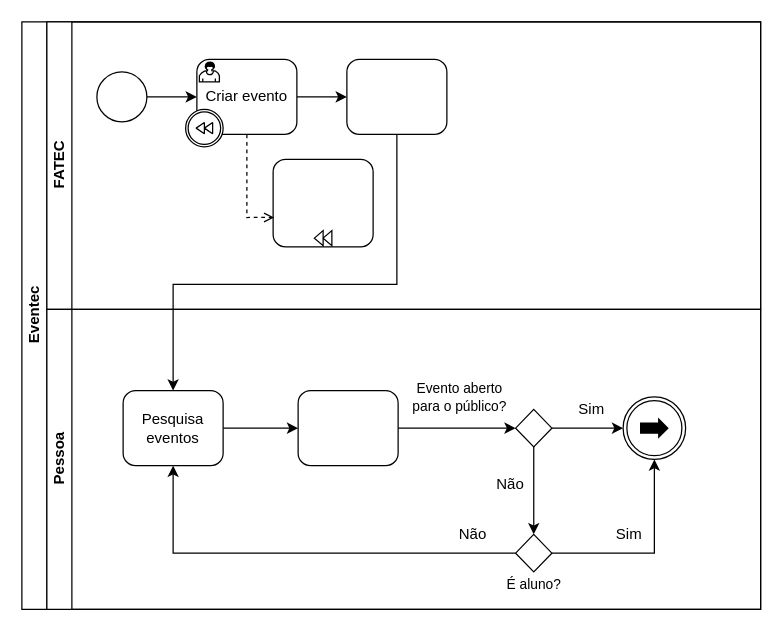
Image size: 783x631. Some labels were removed from this diagram. Here are the shapes that lost their labels. From the top down, the centre of each, then its label:
the point at 396,96: Anuncia evento na plataforma
the point at 322,202: Cancelar evento
the point at 347,427: Escolhe evento
